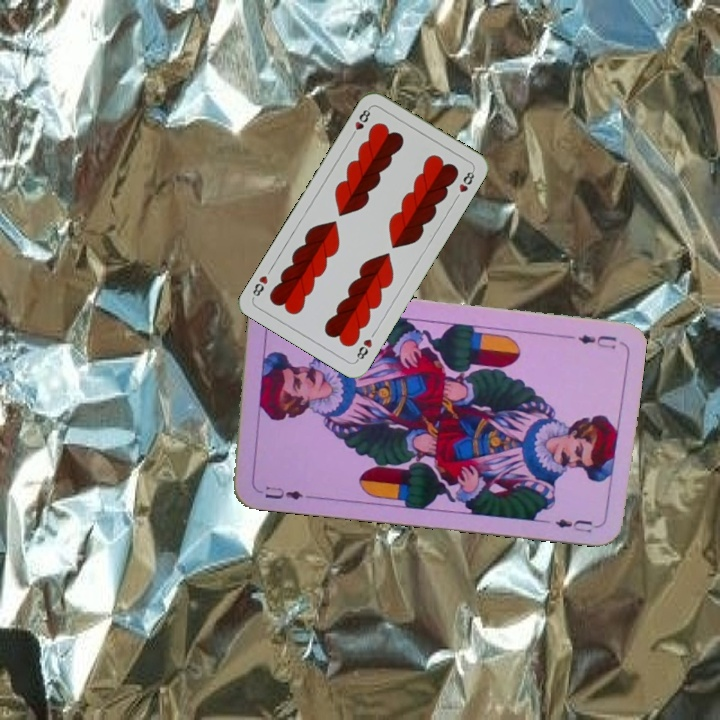EU: (260, 482, 312, 503), (573, 331, 619, 351)
H8: (347, 104, 373, 140), (352, 335, 375, 364)
